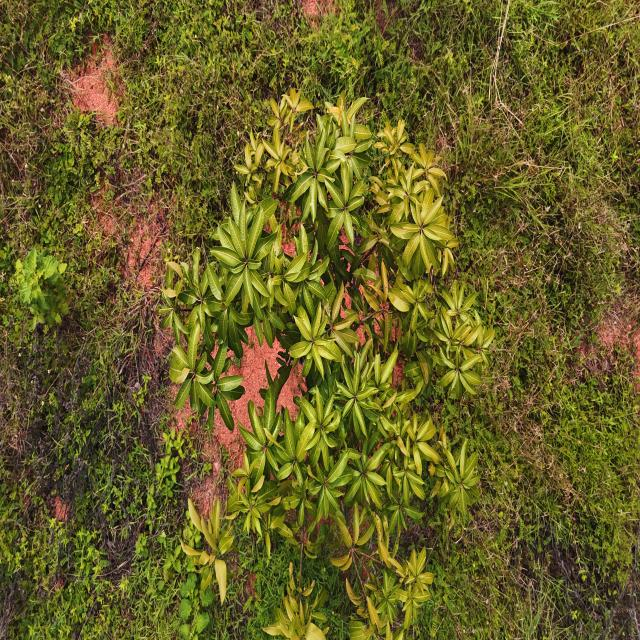mangoTree: (157, 83, 496, 640)
notMangoTree: (10, 242, 74, 346)
